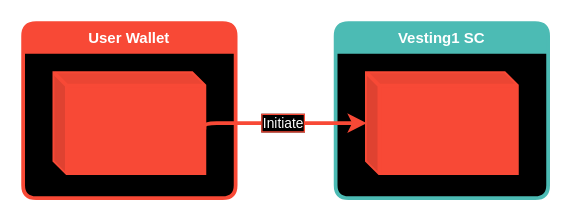
The diagram is 571 pixels wide and 221 high, and some of its shapes have lost their labels. The shapes that lost their labels are listed below. From the top down, each one's centre as x and y in pixels, then its label:
At (129,122): "ERG or SigUSD".
At (441,122): "X amount of ERG or SigUSD".
